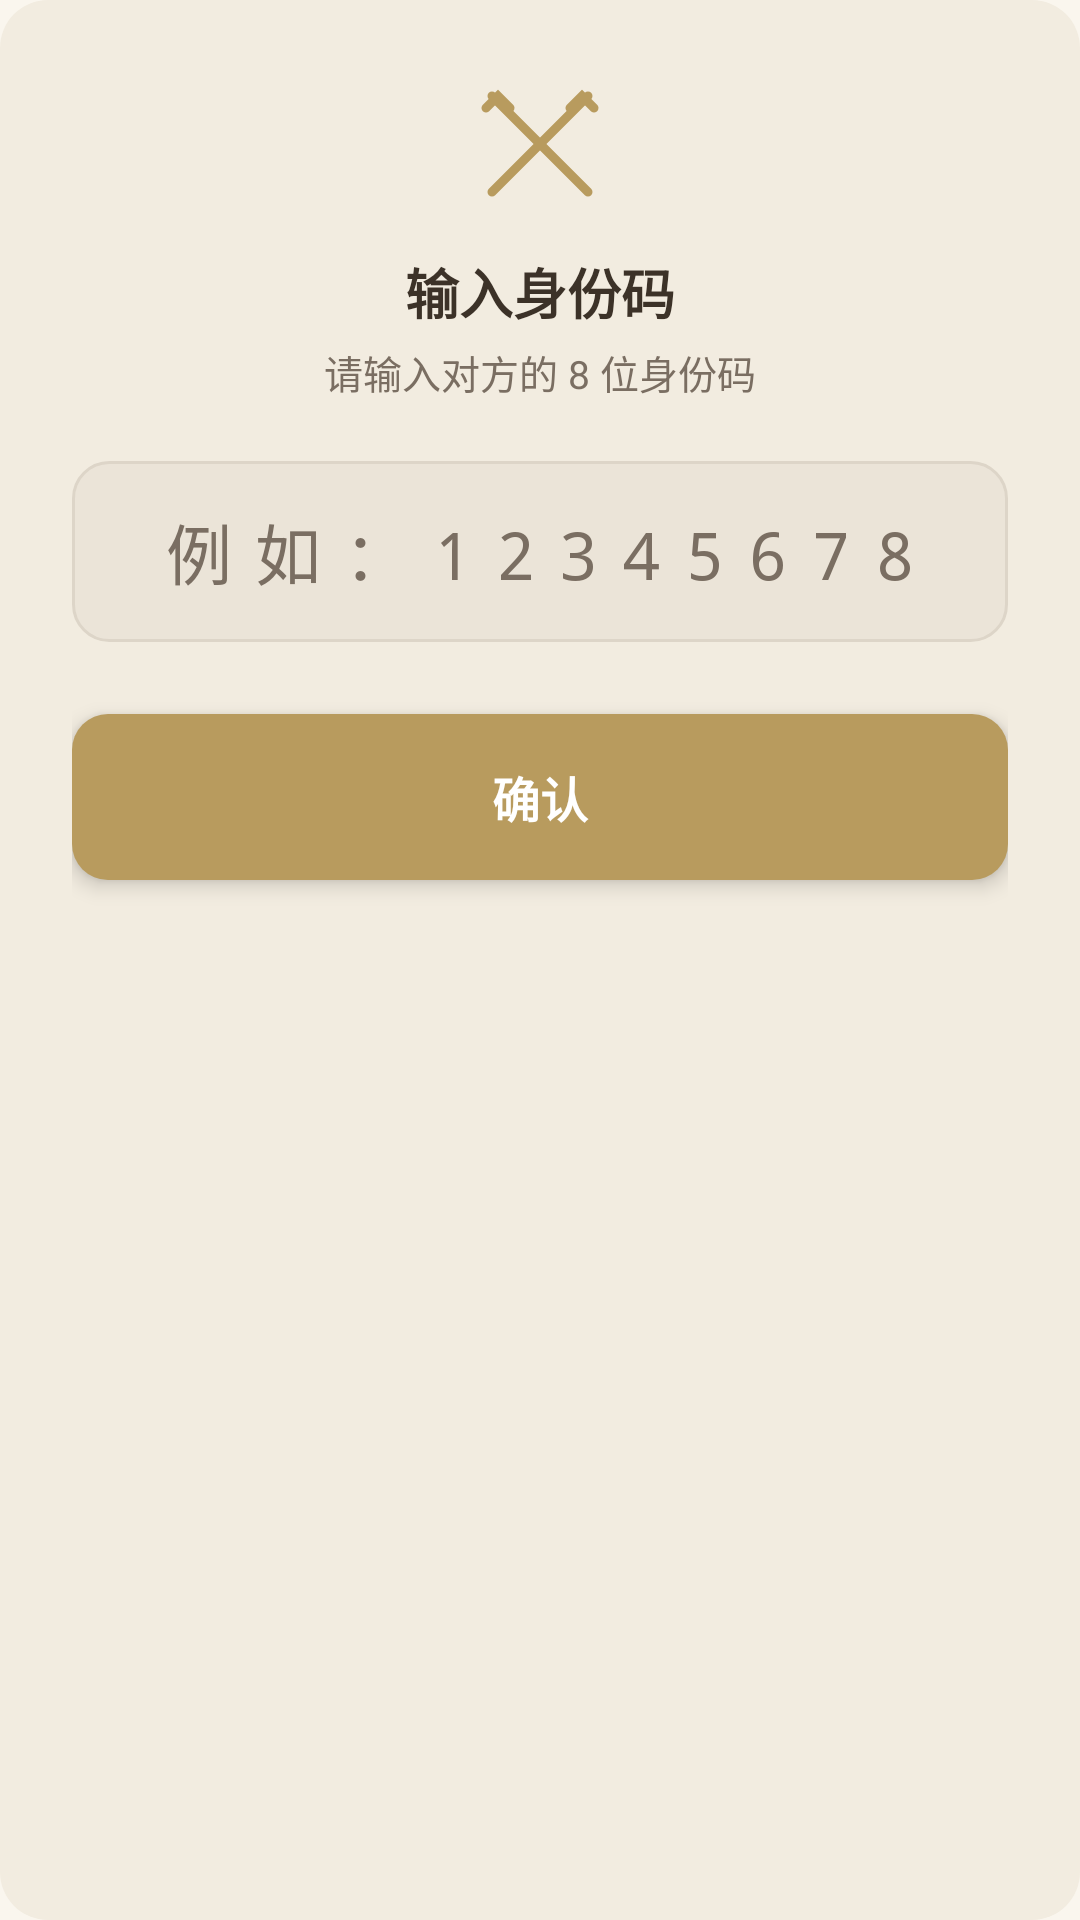

Icons on this 1080w x 1920h Android screen, each with the point to tap as (x,y):
battle: (540,143)
